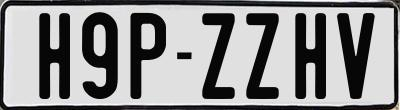9: (82, 10, 121, 102)
H: (37, 13, 71, 103), (293, 11, 325, 99)
P: (130, 11, 168, 102)
V: (337, 12, 376, 103)
Z: (244, 12, 280, 103), (201, 13, 238, 100)
